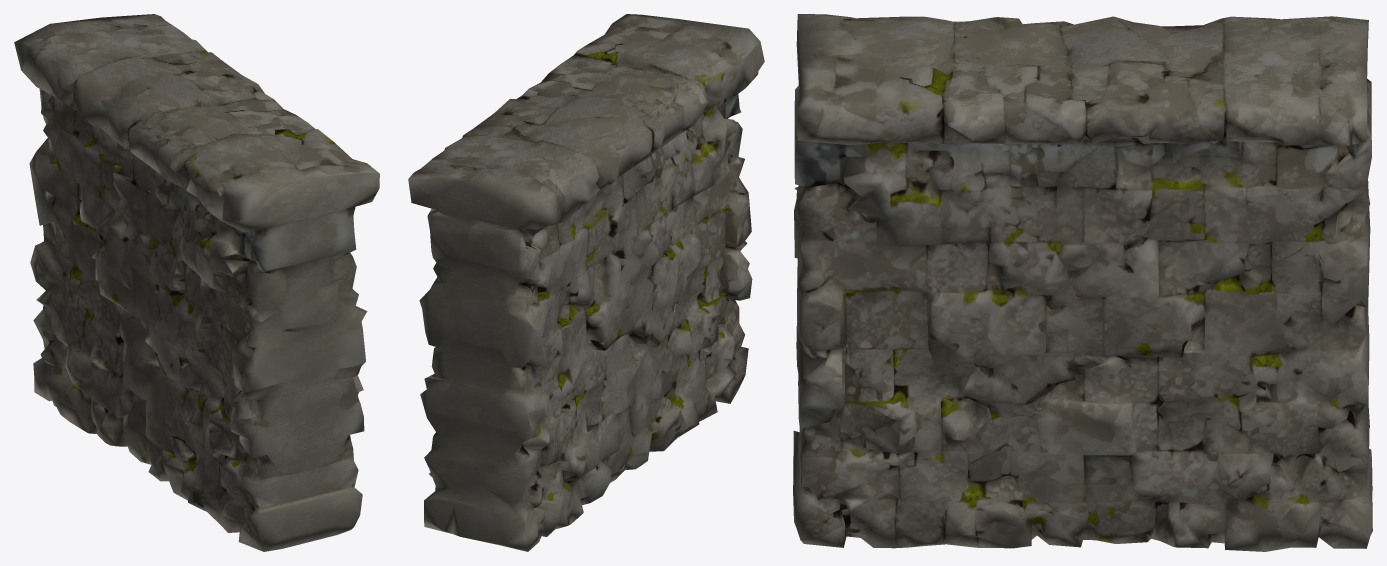
The model's file is wall_panel.glb.
The picture shows the model from 3 angles, left to right: view 1: azimuth 30°, elevation 25°; view 2: azimuth 150°, elevation 25°; view 3: azimuth 270°, elevation 25°; orthographic projection. The views are drawn at different scales.
Parts seen in each view (by area): view 1: tripo_node_bff7a96b-4022-4637-9933-b624f86f6cb7; view 2: tripo_node_bff7a96b-4022-4637-9933-b624f86f6cb7; view 3: tripo_node_bff7a96b-4022-4637-9933-b624f86f6cb7.
Part boxes in pixels (x1,y1,x2,y2): tripo_node_bff7a96b-4022-4637-9933-b624f86f6cb7: [14, 14, 379, 551]; tripo_node_bff7a96b-4022-4637-9933-b624f86f6cb7: [408, 14, 764, 551]; tripo_node_bff7a96b-4022-4637-9933-b624f86f6cb7: [793, 14, 1372, 551].
Size of the model in its own units: 0.3832 by 0.894 by 1.
Materials: 1 (1 with a texture image).
